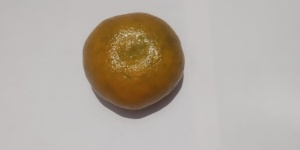BAD: (81, 12, 184, 110)
